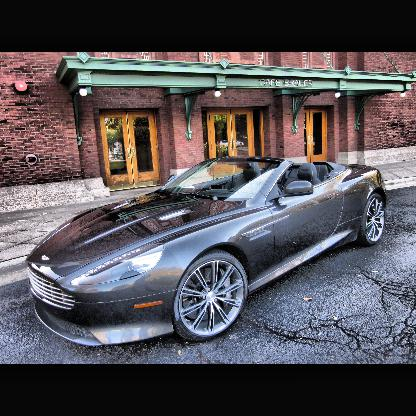Aston Martin Virage Convertible 2012: (24, 154, 391, 350)
